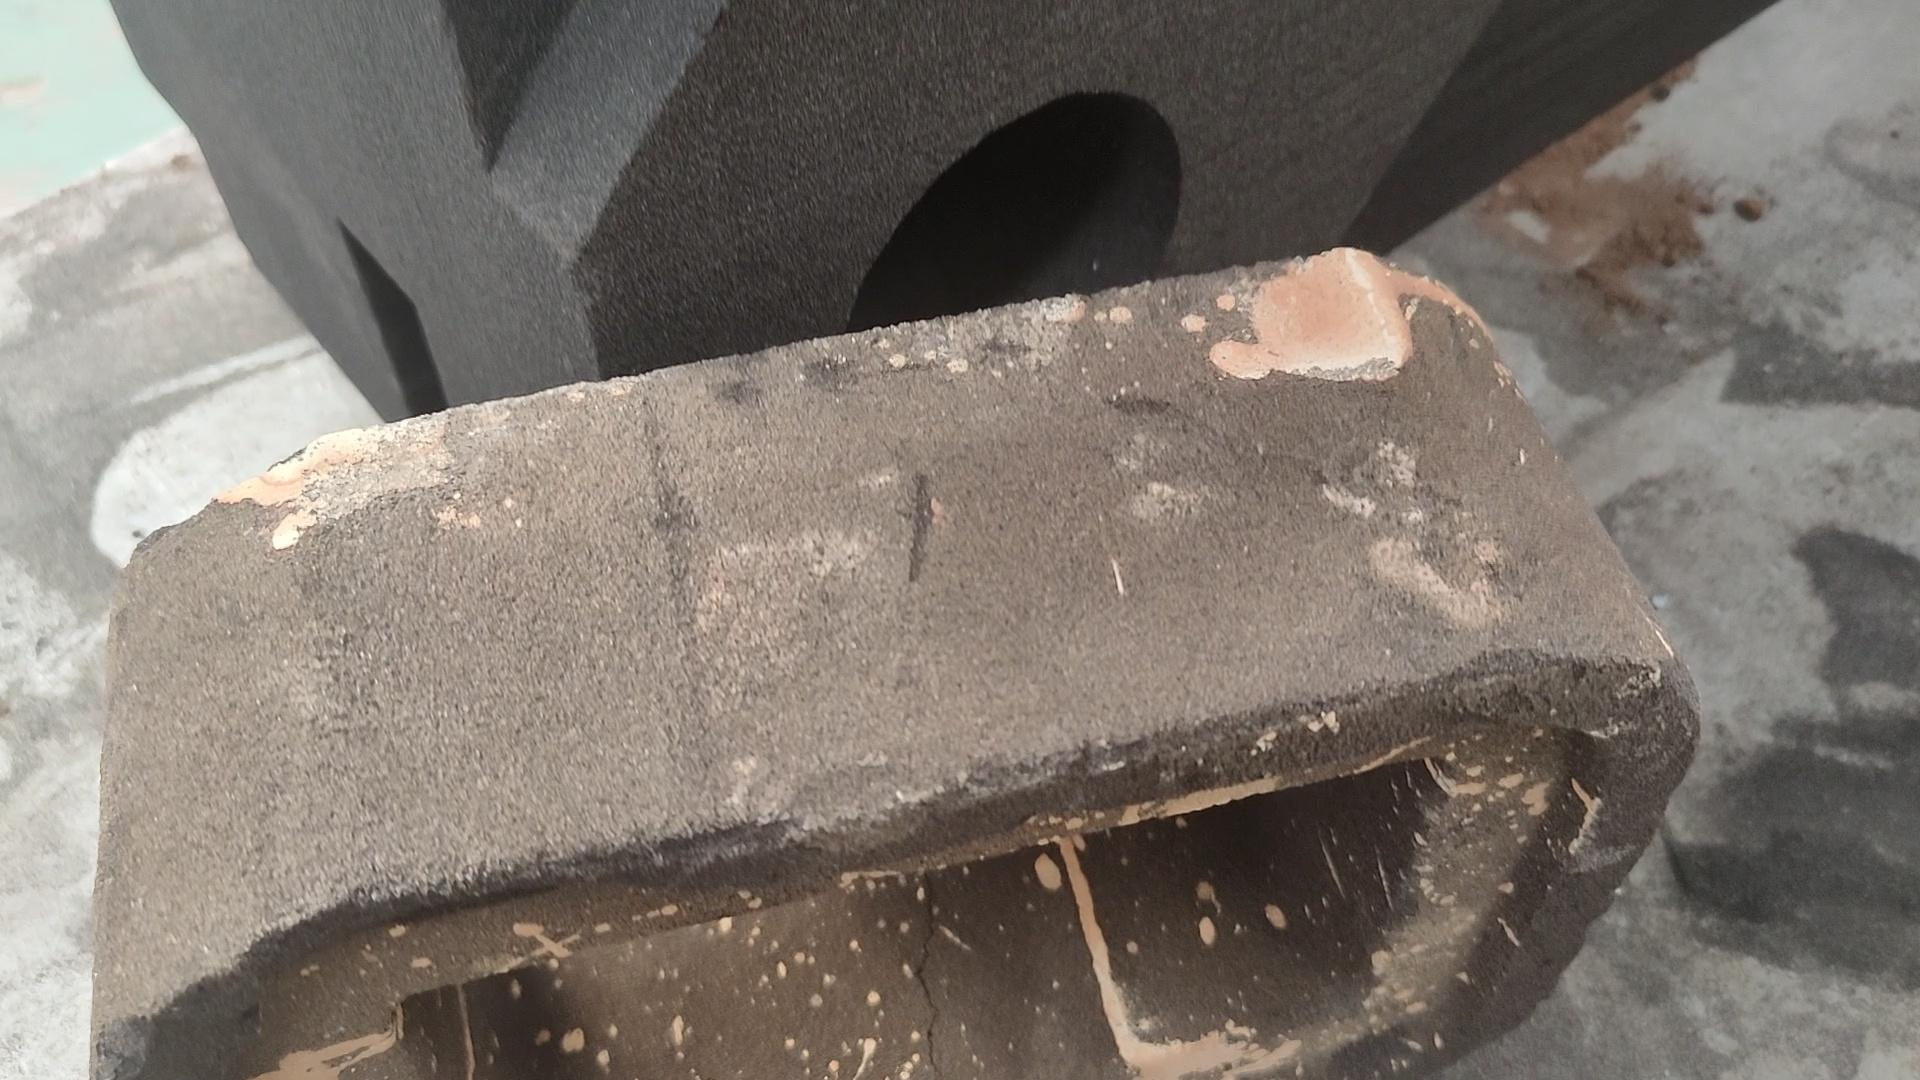pouring hole: (840, 91, 1185, 382)
